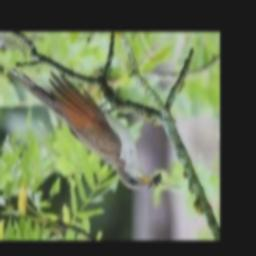Cuckoo: (7, 68, 153, 189)
